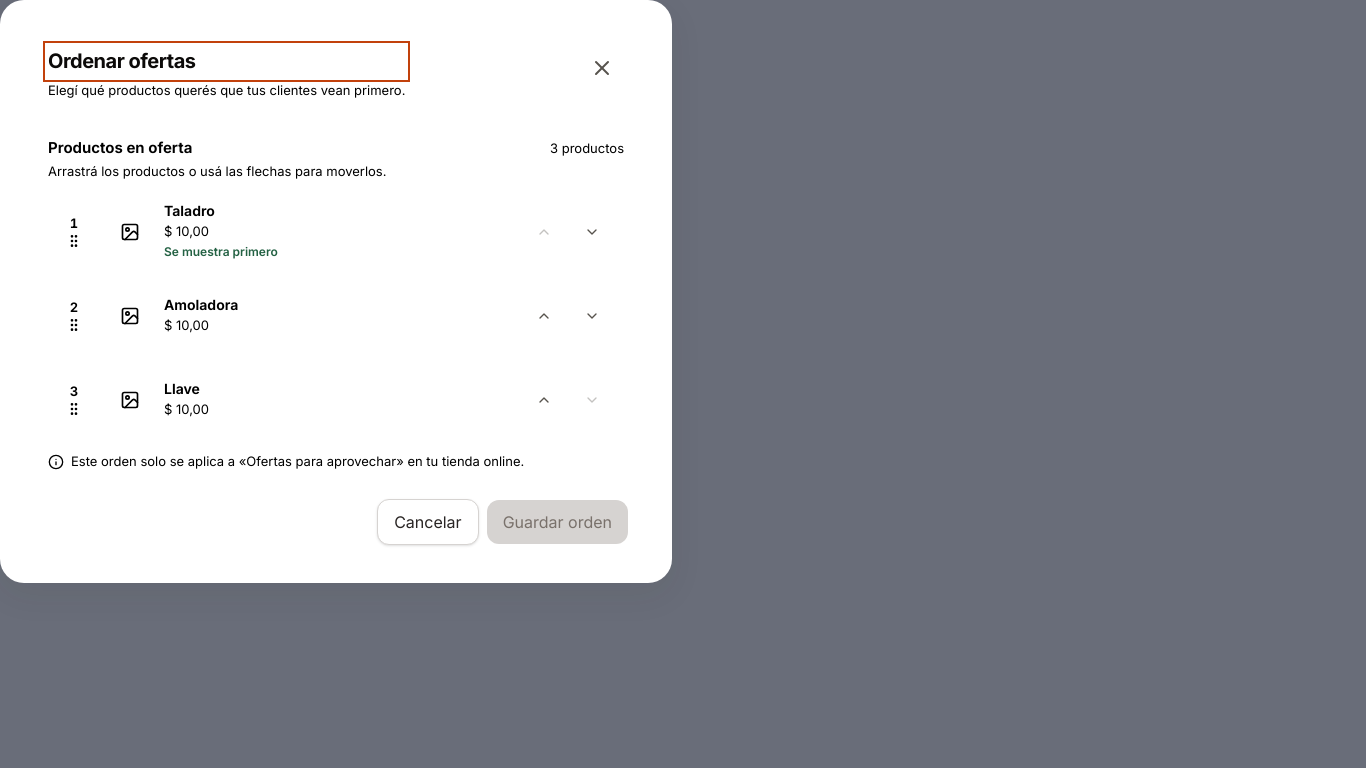
Test: OfferOrderDialog › disables saving when the original order is restored
The image size is (1366, 768).
Click the button named "Subir Amoladora".
click(544, 316)  # box [522,294,566,338]
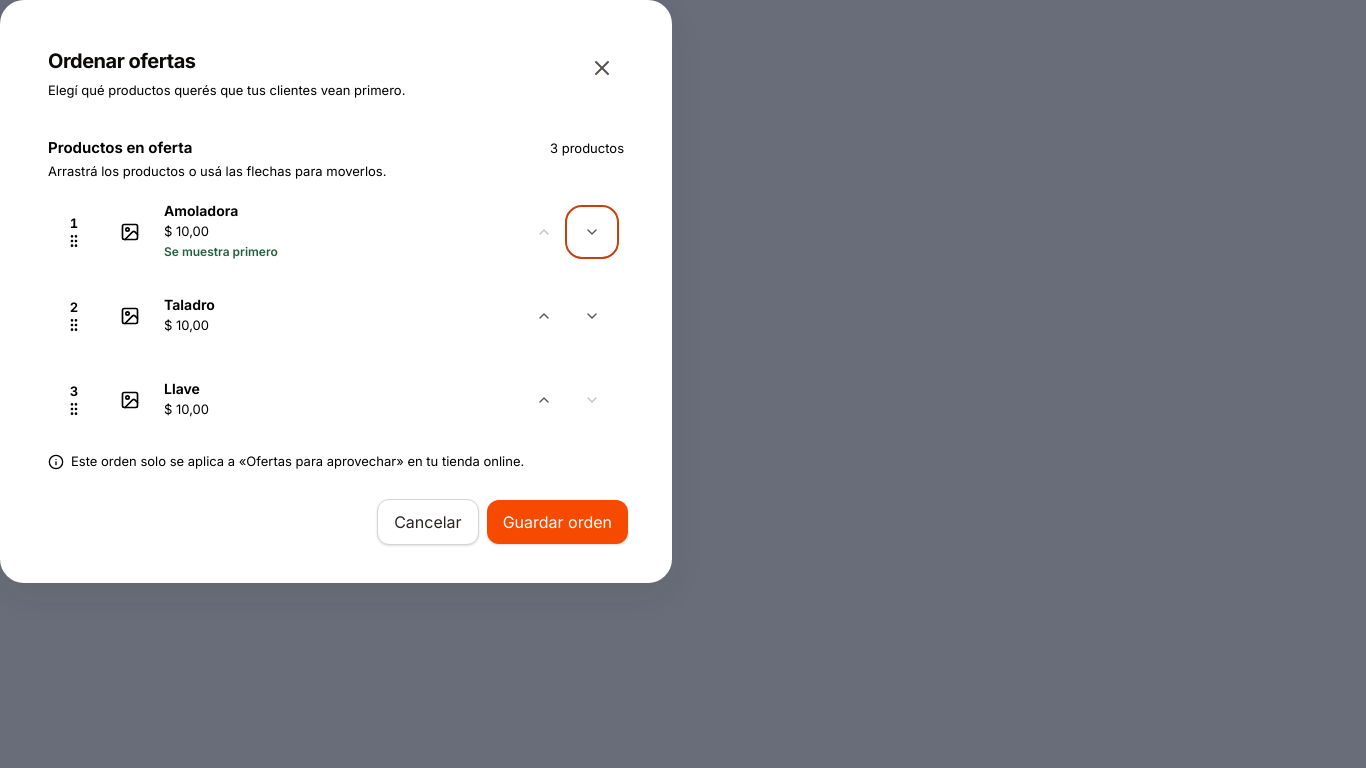
Press Enter
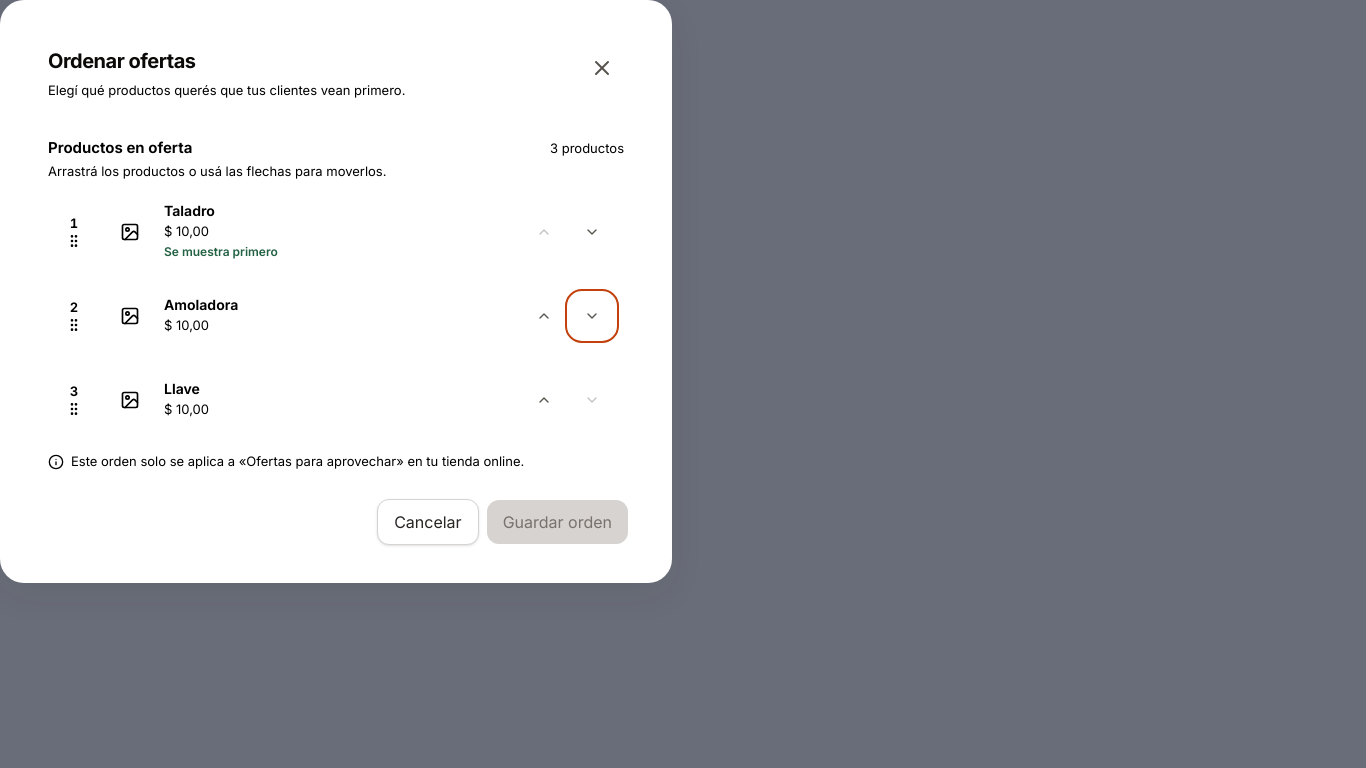
Result: the button "Guardar orden" is disabled at [487,500,628,544]
